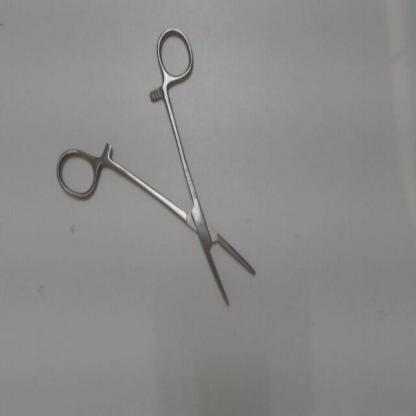Mayo Needle Holder: (52, 20, 270, 320)
